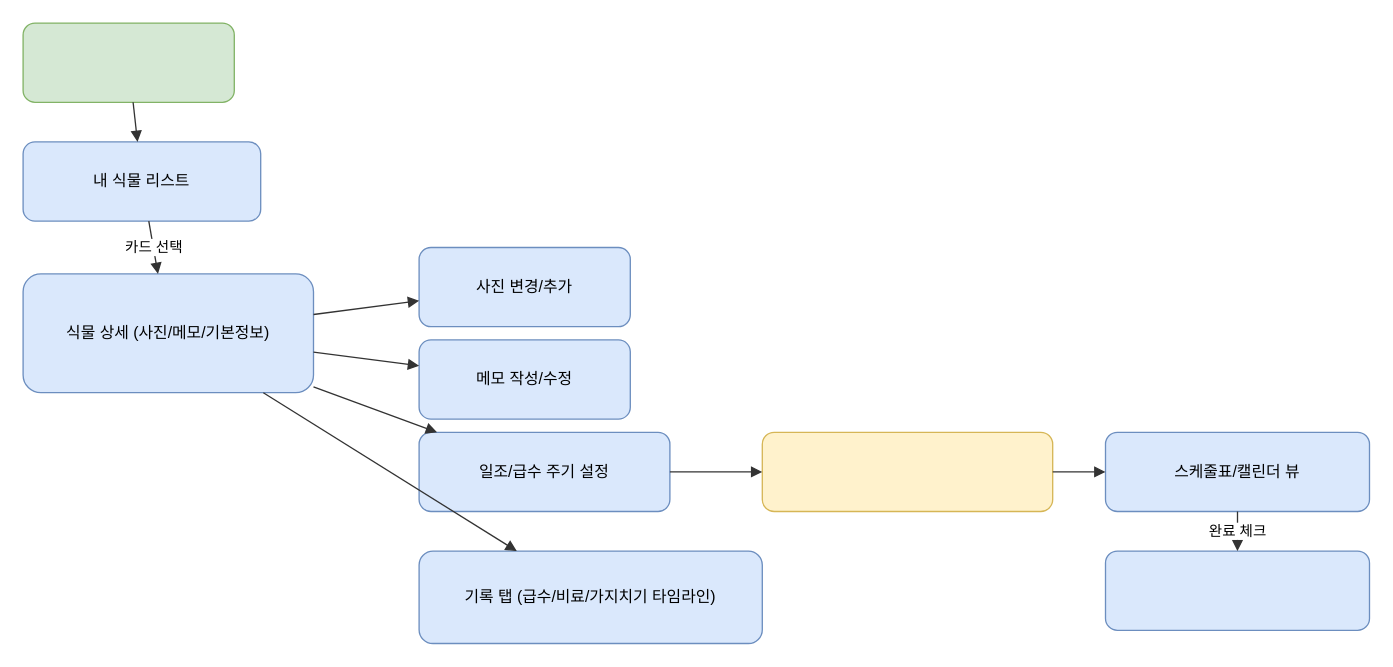
Some shapes in this 1393 by 667 pixel diagram are drawn without their labels. Each missing label, with the centre of its shape:
"스케줄 생성/업데이트" goes at (x=907, y=471).
"완료 체크/기록 저장" goes at (x=1237, y=590).
"우리아이 홈" goes at (x=128, y=62).
